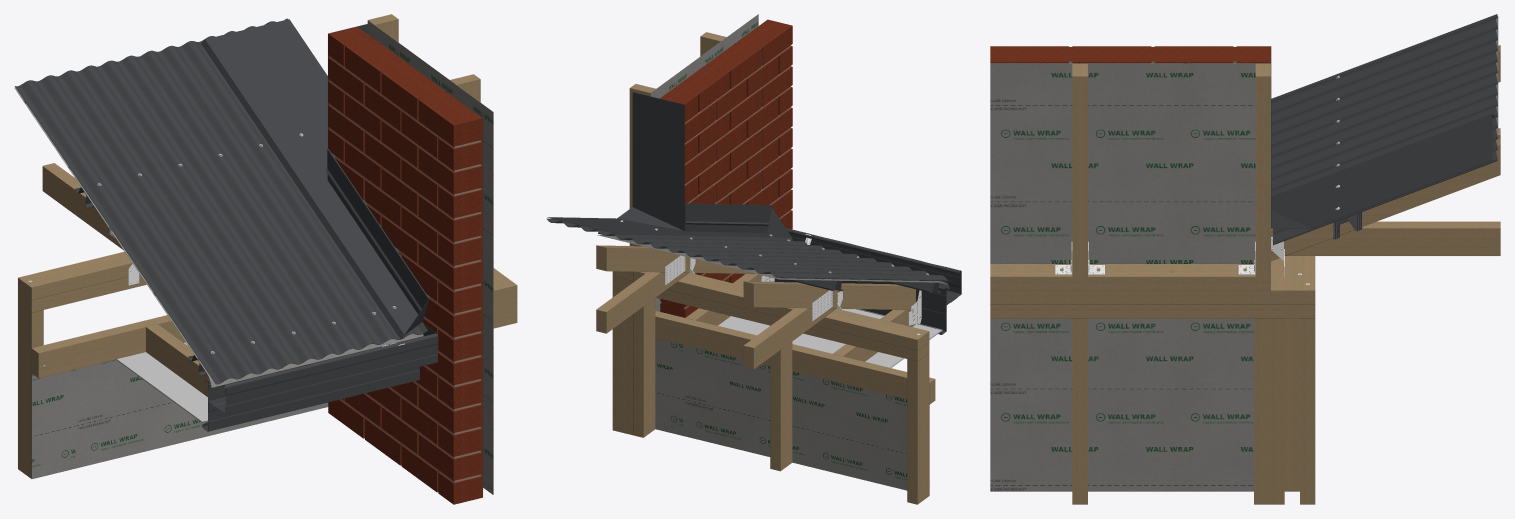
File: gutter-to-brickwork-detail.glb
3 renders of one model, left to right at view 1: azimuth 30°, elevation 25°; view 2: azimuth 150°, elevation 25°; view 3: azimuth 270°, elevation 25°, orthographic. The views are drawn at different scales.
Visible parts, largest first — view 1: ROOFING_ROOFING_457202, BRICK_VENEER_BRICK_VENEER_439743, Building_Wrap_Building_Wrap_435485, Apron_Flashing_Apron_Flashing_483882, GH_-_METAL_GUTTER_GH_-_METAL_GUTTER_435066, TOP_PLATE_TOP_PLATE_315164, TIMBER_PLATE_TIMBER_PLATE_316549, Trusses_Trusses_315833, GH_-_METAL_FASCIA_GH_-_METAL_FASCIA_423737, WALL_FRAMING_WALL_FRAMING_315073, CHASE_FLASHING_CHASE_FLASHING_495477, SOFFIT_LINING_SOFFIT_LINING_455784 (+3 smaller); view 2: Building_Wrap_Building_Wrap_435485, BRICK_VENEER_BRICK_VENEER_439743, Trusses_Trusses_315833, WALL_FRAMING_WALL_FRAMING_315073, Apron_Flashing_Apron_Flashing_483882, ROOFING_ROOFING_457202, TOP_PLATE_TOP_PLATE_315164, TIMBER_PLATE_TIMBER_PLATE_316549, GH_-_METAL_GUTTER_GH_-_METAL_GUTTER_435066, SOFFIT_LINING_SOFFIT_LINING_455784, CHASE_FLASHING_CHASE_FLASHING_495477, GH_-_METAL_FASCIA_GH_-_METAL_FASCIA_423737 (+3 smaller); view 3: Building_Wrap_Building_Wrap_435485, ROOFING_ROOFING_457202, WALL_FRAMING_WALL_FRAMING_315073, TOP_PLATE_TOP_PLATE_315164, Apron_Flashing_Apron_Flashing_483882, Trusses_Trusses_315833, WALL_FRAMING1_WALL_FRAMING_435849, TOP_PLATE1_TOP_PLATE_435618, BRICK_VENEER_BRICK_VENEER_439743.
Part boxes in pixels (x1,y1,x2,y2): ROOFING_ROOFING_457202: (15, 18, 427, 384); BRICK_VENEER_BRICK_VENEER_439743: (328, 26, 482, 504); Building_Wrap_Building_Wrap_435485: (31, 20, 493, 494); Apron_Flashing_Apron_Flashing_483882: (201, 19, 428, 339); GH_-_METAL_GUTTER_GH_-_METAL_GUTTER_435066: (208, 324, 437, 414); TOP_PLATE_TOP_PLATE_315164: (18, 251, 517, 328); TIMBER_PLATE_TIMBER_PLATE_316549: (31, 315, 185, 378); Trusses_Trusses_315833: (42, 163, 208, 396); GH_-_METAL_FASCIA_GH_-_METAL_FASCIA_423737: (202, 367, 419, 431); WALL_FRAMING_WALL_FRAMING_315073: (18, 303, 43, 478); CHASE_FLASHING_CHASE_FLASHING_495477: (326, 149, 429, 311); SOFFIT_LINING_SOFFIT_LINING_455784: (115, 342, 207, 423); Building_Wrap_Building_Wrap_435485: (650, 14, 929, 495); BRICK_VENEER_BRICK_VENEER_439743: (660, 19, 792, 317); Trusses_Trusses_315833: (596, 245, 915, 369); WALL_FRAMING_WALL_FRAMING_315073: (612, 287, 929, 504); Apron_Flashing_Apron_Flashing_483882: (547, 92, 792, 240); ROOFING_ROOFING_457202: (546, 218, 952, 281); TOP_PLATE_TOP_PLATE_315164: (612, 271, 929, 361); TIMBER_PLATE_TIMBER_PLATE_316549: (655, 310, 935, 404); GH_-_METAL_GUTTER_GH_-_METAL_GUTTER_435066: (786, 228, 961, 304); SOFFIT_LINING_SOFFIT_LINING_455784: (718, 309, 942, 367); CHASE_FLASHING_CHASE_FLASHING_495477: (685, 203, 771, 225); GH_-_METAL_FASCIA_GH_-_METAL_FASCIA_423737: (769, 277, 946, 334); Building_Wrap_Building_Wrap_435485: (990, 63, 1270, 491); ROOFING_ROOFING_457202: (1271, 14, 1497, 245); WALL_FRAMING_WALL_FRAMING_315073: (1072, 318, 1315, 504); TOP_PLATE_TOP_PLATE_315164: (990, 256, 1315, 318); Apron_Flashing_Apron_Flashing_483882: (1271, 46, 1494, 228); Trusses_Trusses_315833: (1271, 45, 1500, 260); WALL_FRAMING1_WALL_FRAMING_435849: (1072, 63, 1270, 276); TOP_PLATE1_TOP_PLATE_435618: (990, 264, 1270, 290); BRICK_VENEER_BRICK_VENEER_439743: (990, 46, 1270, 63).
Size of the model in its own units: 4.39 by 4.53 by 4.89.
12 materials, 8 textured.
